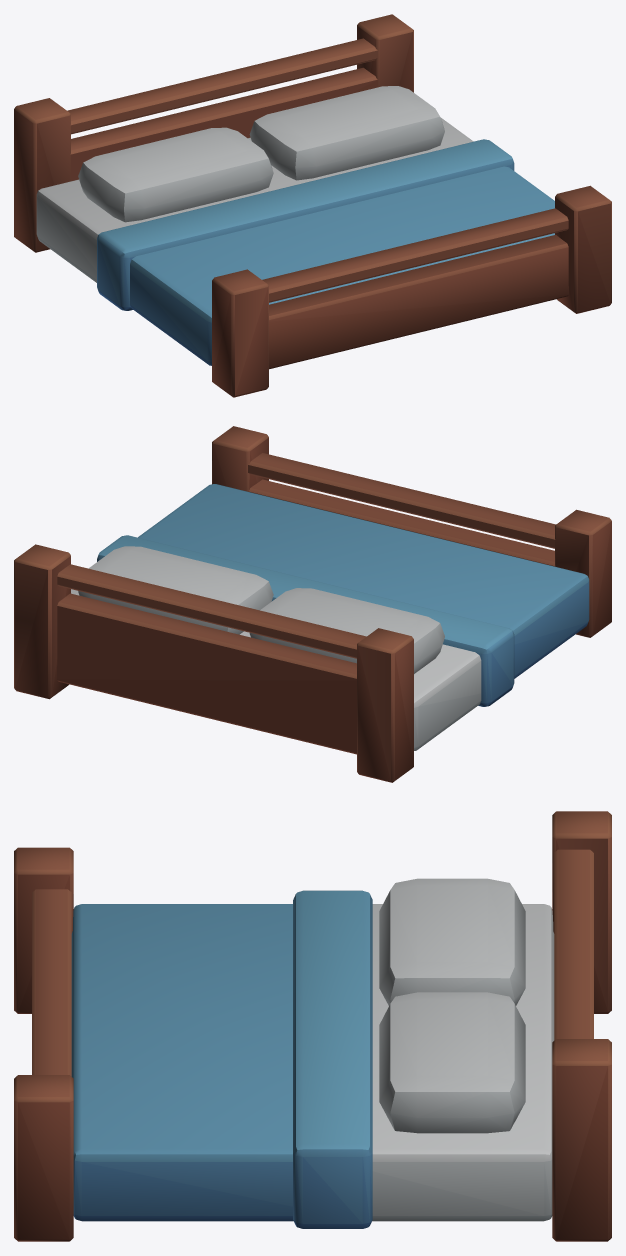
Rendered from kk_furniture_bed_double_B.glb.
The picture shows the model from 3 angles, top to bottom: view 1: azimuth 30°, elevation 25°; view 2: azimuth 150°, elevation 25°; view 3: azimuth 270°, elevation 25°; orthographic projection. The views are drawn at different scales.
Parts seen in each view (by area): view 1: kk_furniture_bed_double_B; view 2: kk_furniture_bed_double_B; view 3: kk_furniture_bed_double_B.
Boxes of the visible parts, x1,y1,x2,y2 form: kk_furniture_bed_double_B: (14,14,611,397); kk_furniture_bed_double_B: (14,426,611,782); kk_furniture_bed_double_B: (14,811,611,1241).
Size of the model in its own units: 3.1 by 1 by 3.
